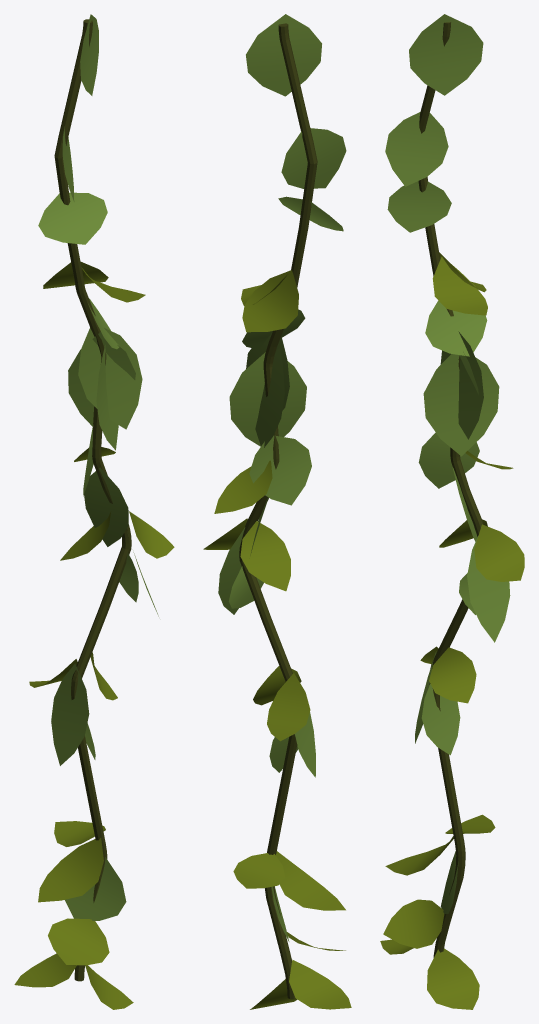
File: ivy_long.fbx
3 views of the same model, side by side, from view 1: azimuth 30°, elevation 25°; view 2: azimuth 150°, elevation 25°; view 3: azimuth 330°, elevation 25° (orthographic). The views are drawn at different scales.
Visible parts, largest first — view 1: Sweep, Plane_1_19, Plane_1_23, Plane_4, Plane_1_7, Plane_2, Plane_1_14, Plane_1_3, Plane_1_18, Plane_1, Plane_1_25, Plane_1_17 (+9 smaller); view 2: Sweep, Plane_1_25, Plane_1_17, Plane_1_16, Plane_22, Plane_1_24, Plane_13, Plane_8, Plane_1, Plane_4, Plane_1_18, Plane_15 (+11 smaller); view 3: Sweep, Plane_1_25, Plane_1_17, Plane_1_24, Plane_0, Plane_1_23, Plane_1_20, Plane_12, Plane_2, Plane_1_11, Plane_9, Plane_21 (+7 smaller).
Part boxes in pixels (x1,y1,x2,y2): Sweep: [54, 21, 131, 981]; Plane_1_19: [78, 327, 142, 429]; Plane_1_23: [38, 192, 107, 244]; Plane_4: [38, 838, 103, 902]; Plane_1_7: [51, 663, 89, 765]; Plane_2: [48, 918, 109, 965]; Plane_1_14: [84, 467, 128, 546]; Plane_1_3: [65, 857, 126, 920]; Plane_1_18: [68, 332, 135, 426]; Plane_1: [14, 953, 76, 987]; Plane_1_25: [80, 14, 98, 95]; Plane_1_17: [96, 345, 118, 450]; Sweep: [239, 24, 317, 999]; Plane_1_25: [246, 14, 321, 96]; Plane_1_17: [229, 352, 306, 446]; Plane_1_16: [249, 435, 311, 505]; Plane_22: [242, 270, 298, 332]; Plane_1_24: [281, 128, 346, 188]; Plane_13: [240, 521, 290, 591]; Plane_8: [267, 673, 310, 741]; Plane_1: [289, 959, 351, 1009]; Plane_4: [276, 851, 345, 910]; Plane_1_18: [255, 347, 284, 447]; Plane_15: [214, 460, 272, 513]; Sweep: [418, 22, 483, 957]; Plane_1_25: [409, 14, 483, 95]; Plane_1_17: [423, 354, 499, 456]; Plane_1_24: [385, 112, 448, 186]; Plane_0: [427, 948, 479, 1009]; Plane_1_23: [387, 181, 451, 232]; Plane_1_20: [425, 300, 487, 356]; Plane_12: [474, 524, 524, 581]; Plane_2: [383, 899, 444, 948]; Plane_1_11: [467, 536, 510, 642]; Plane_9: [429, 647, 476, 703]; Plane_21: [432, 256, 487, 315].
Bounding box in the file's own units: 70.64 × 443 × 46.28.
